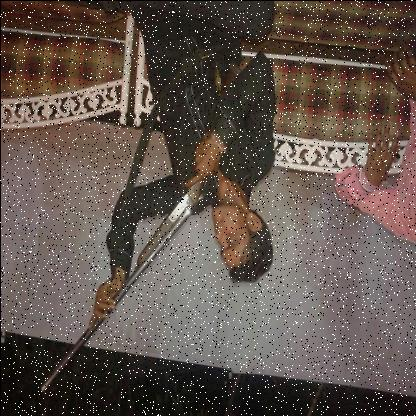rifle: (38, 54, 256, 393)
